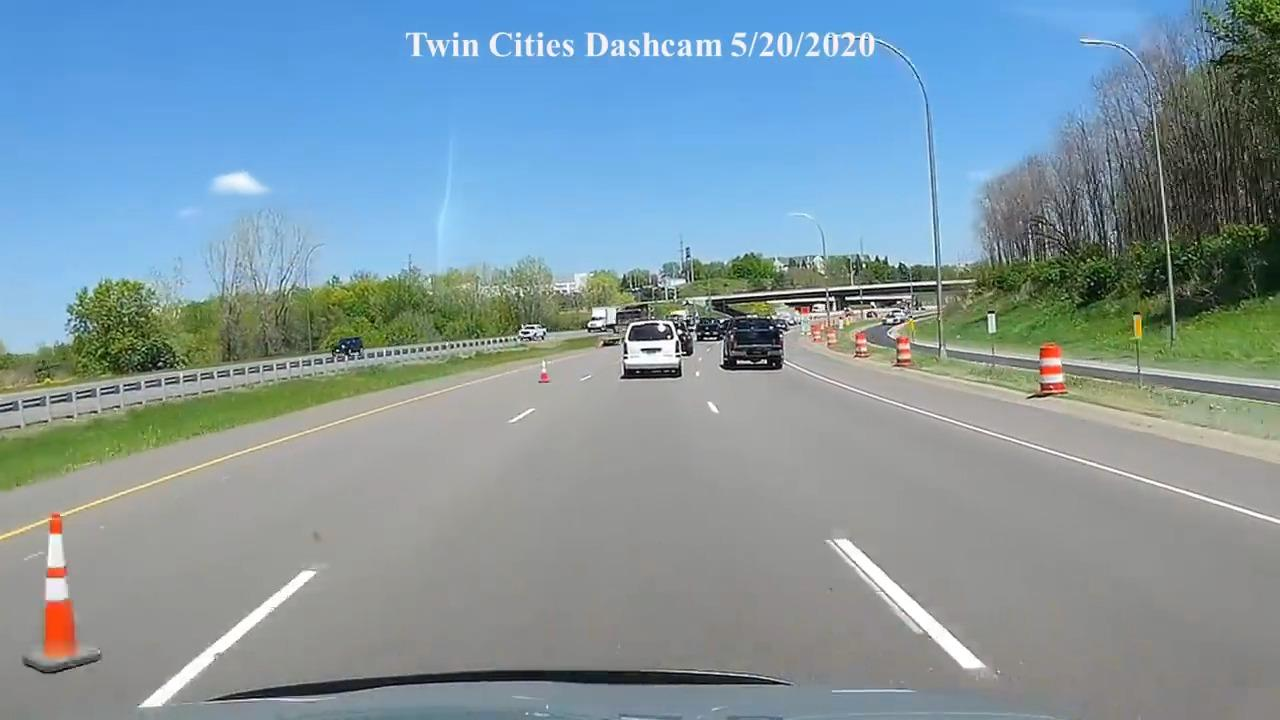car: (619, 319, 683, 379), (721, 318, 785, 370), (517, 324, 547, 342)
traffic cone: (22, 512, 101, 676), (1027, 343, 1068, 398), (891, 332, 916, 368), (853, 331, 870, 360), (538, 358, 553, 384)
